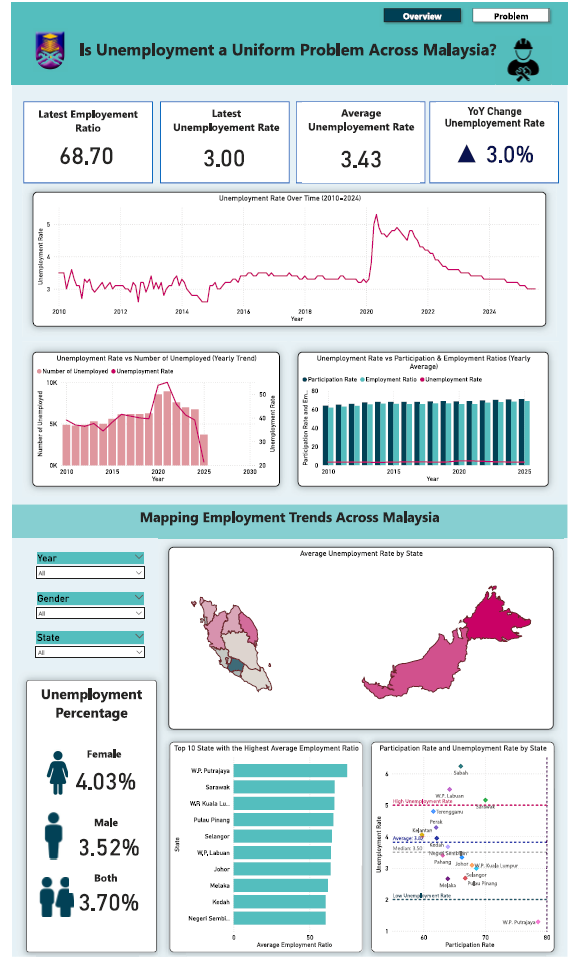

This screenshot's page, from the dashboard's own definition file:
{"tool":"powerbi","page":{"name":"Overview","canvas":[1280,2200],"ordinal":0},"visuals":[{"type":"lineChart","title":"Unemployment Rate Over Time (2010-2024)","fields":{"Y":["Sum(lfs_month.u_rate)"],"Category":["lfs_month.date.Variation.Date Hierarchy.Year","lfs_month.date.Variation.Date Hierarchy.Quarter","lfs_month.date.Variation.Date Hierarchy.Month","lfs_month.date.Variation.Date Hierarchy.Day"]},"box":[48.1,437.5,1182.5,310],"z":0},{"type":"textbox","box":[32.5,1562.5,300,627.5],"z":1000},{"type":"group","id":"g1","title":"Group 1","box":[41.3,2002.3,283.7,121.1],"z":2000},{"type":"textbox","box":[0,0,1280,190],"z":3000},{"type":"lineClusteredColumnComboChart","title":"Unemployment Rate vs Number of Unemployed (Yearly Trend)","fields":{"Category":["lfs_month.date.Variation.Date Hierarchy.Year","lfs_month.date.Variation.Date Hierarchy.Quarter","lfs_month.date.Variation.Date Hierarchy.Month","lfs_month.date.Variation.Date Hierarchy.Day"],"Y":["Sum(lfs_month.lf_unemployed)"],"Y2":["Sum(lfs_month.u_rate)"]},"box":[47.3,806.2,570,310],"z":4000},{"type":"lineClusteredColumnComboChart","title":"Unemployment Rate vs Participation & Employment Ratios (Yearly Average)","fields":{"Category":["lfs_month.date.Variation.Date Hierarchy.Year"],"Y2":["Avg(lfs_month.u_rate)"],"Y":["Avg(lfs_month.p_rate)","Avg(lfs_month.ep_ratio)"]},"box":[659,806.2,578.3,310],"z":5000},{"type":"image","box":[39.6,1718.1,129.4,115.9],"z":6000},{"type":"image","box":[1.7,55,173.3,108.3],"z":7000},{"type":"shapeMap","title":"Average Unemployment Rate by State","fields":{"Category":["lfs_state_sex.state"]},"box":[360.5,1256.5,887.5,420],"z":8000},{"type":"slicer","fields":{"Values":["lfs_state_sex.state"]},"box":[44.3,1445.7,271.4,72.9],"z":9000},{"type":"barChart","title":"Top 10 State with the Highest Average Employment Ratio","fields":{"Y":["Avg(lfs_state_sex.ep_ratio)"],"Category":["lfs_state_sex.state"]},"box":[362.5,1705,445,485],"z":10000},{"type":"scatterChart","title":"Participation Rate and Unemployment Rate by State","fields":{"X":["Avg(lfs_state_sex.p_rate)"],"Y":["Avg(lfs_state_sex.u_rate)"],"Series":["lfs_state_sex.state"]},"box":[827.5,1705,422.5,485],"z":11000},{"type":"slicer","fields":{"Values":["lfs_state_sex.sex"]},"box":[45,1356.2,270,76.7],"z":12000},{"type":"textbox","box":[150,76.7,991.7,65],"z":13000},{"type":"image","box":[1078.3,71.7,201.7,140],"z":14000},{"type":"slicer","fields":{"Values":["lfs_state_sex.Year"]},"box":[45,1263.3,270,73.3],"z":15000},{"type":"pageNavigator","box":[848.3,5,400,50],"z":16000},{"type":"group","id":"g2","title":"Group 6","box":[655,229.4,296.7,186.7],"z":17000},{"type":"textbox","box":[0,1157.5,1280,77.5],"z":18000},{"type":"group","id":"g3","title":"Group 4","box":[120.1,1885.2,206.3,112.4],"z":19000},{"type":"card","fields":{"Values":["lfs_month.Male Unemployment Rate"]},"box":[120.1,1885.2,206.3,112.4],"z":19000,"group":"g3"},{"type":"group","id":"g4","title":"Group 8","box":[963.3,229.4,296.7,186.7],"z":20000},{"type":"textbox","box":[166.7,1710,101.7,41.7],"z":21000},{"type":"image","box":[41.3,2002.5,129.2,120.7],"z":21000,"group":"g1"},{"type":"shape","box":[655,229.4,296.7,186.7],"z":22000,"group":"g2"},{"type":"card","fields":{"Values":["lfs_month.Female Unemployment Rate"]},"box":[130,1755,171.7,68.3],"z":22000},{"type":"card","fields":{"Values":["Avg(lfs_month.u_rate)"]},"box":[670,293.9,270,121.4],"z":23000,"group":"g2"},{"type":"image","box":[36,1860,120,120],"z":23000},{"type":"shape","box":[963.3,229.4,296.7,186.7],"z":24000,"group":"g4"},{"type":"card","fields":{"Values":["lfs_month.Overall Unemployment Rate"]},"box":[144,1996,158,144],"z":24000},{"type":"card","fields":{"Values":["lfs_month.YoY Change Unemployment Rate Display"]},"box":[976.6,294.4,270,98.3],"z":25000,"group":"g4"},{"type":"textbox","box":[153.3,1868.3,126.7,51.7],"z":25000},{"type":"textbox","box":[132.9,1995.7,165.7,57.1],"z":26000},{"type":"shape","box":[27,229,296.7,186.7],"z":27000},{"type":"textbox","box":[670,232.7,270,83.3],"z":28000,"group":"g2"},{"type":"card","fields":{"Values":["lfs_month.Latest Ep Ratio"]},"box":[32,285.7,278.3,121.7],"z":28000},{"type":"shape","box":[342,229,296.7,186.7],"z":29000},{"type":"textbox","box":[978.3,232.7,270,90],"z":29000,"group":"g4"},{"type":"card","fields":{"Values":["lfs_month.Latest Unemployment Rate"]},"box":[358.3,294.7,262,114],"z":30000},{"type":"textbox","box":[40,235,270,77.5],"z":31000},{"type":"textbox","box":[360,232.5,267.5,77.5],"z":32000}]}

Visuals, with their boxes on the page's 1280x2200 design canvas (x1, y1, x2, y2). These are canvas units, not pixel positions in the 577x960 screenshot, which may show the page scaled, cropped or inside an application window:
"Unemployment Rate Over Time (2010-2024)" lineChart: x1=48, y1=438, x2=1231, y2=748
textbox: x1=32, y1=1562, x2=332, y2=2190
"Group 1" group: x1=41, y1=2002, x2=325, y2=2123
textbox: x1=0, y1=0, x2=1280, y2=190
"Unemployment Rate vs Number of Unemployed (Yearly Trend)" lineClusteredColumnComboChart: x1=47, y1=806, x2=617, y2=1116
"Unemployment Rate vs Participation & Employment Ratios (Yearly Average)" lineClusteredColumnComboChart: x1=659, y1=806, x2=1237, y2=1116
image: x1=40, y1=1718, x2=169, y2=1834
image: x1=2, y1=55, x2=175, y2=163
"Average Unemployment Rate by State" shapeMap: x1=360, y1=1256, x2=1248, y2=1676
slicer - lfs_state_sex.state: x1=44, y1=1446, x2=316, y2=1519
"Top 10 State with the Highest Average Employment Ratio" barChart: x1=362, y1=1705, x2=808, y2=2190
"Participation Rate and Unemployment Rate by State" scatterChart: x1=828, y1=1705, x2=1250, y2=2190
slicer - lfs_state_sex.sex: x1=45, y1=1356, x2=315, y2=1433
textbox: x1=150, y1=77, x2=1142, y2=142
image: x1=1078, y1=72, x2=1280, y2=212
slicer - lfs_state_sex.Year: x1=45, y1=1263, x2=315, y2=1337
pageNavigator: x1=848, y1=5, x2=1248, y2=55
"Group 6" group: x1=655, y1=229, x2=952, y2=416
textbox: x1=0, y1=1158, x2=1280, y2=1235
"Group 4" group: x1=120, y1=1885, x2=326, y2=1998
card - lfs_month.Male Unemployment Rate: x1=120, y1=1885, x2=326, y2=1998
"Group 8" group: x1=963, y1=229, x2=1260, y2=416
textbox: x1=167, y1=1710, x2=268, y2=1752
image: x1=41, y1=2002, x2=170, y2=2123
shape: x1=655, y1=229, x2=952, y2=416
card - lfs_month.Female Unemployment Rate: x1=130, y1=1755, x2=302, y2=1823
card - Avg(lfs_month.u_rate): x1=670, y1=294, x2=940, y2=415
image: x1=36, y1=1860, x2=156, y2=1980
shape: x1=963, y1=229, x2=1260, y2=416
card - lfs_month.Overall Unemployment Rate: x1=144, y1=1996, x2=302, y2=2140
card - lfs_month.YoY Change Unemployment Rate Display: x1=977, y1=294, x2=1247, y2=393
textbox: x1=153, y1=1868, x2=280, y2=1920
textbox: x1=133, y1=1996, x2=299, y2=2053
shape: x1=27, y1=229, x2=324, y2=416
textbox: x1=670, y1=233, x2=940, y2=316
card - lfs_month.Latest Ep Ratio: x1=32, y1=286, x2=310, y2=407
shape: x1=342, y1=229, x2=639, y2=416
textbox: x1=978, y1=233, x2=1248, y2=323
card - lfs_month.Latest Unemployment Rate: x1=358, y1=295, x2=620, y2=409
textbox: x1=40, y1=235, x2=310, y2=312
textbox: x1=360, y1=232, x2=628, y2=310
